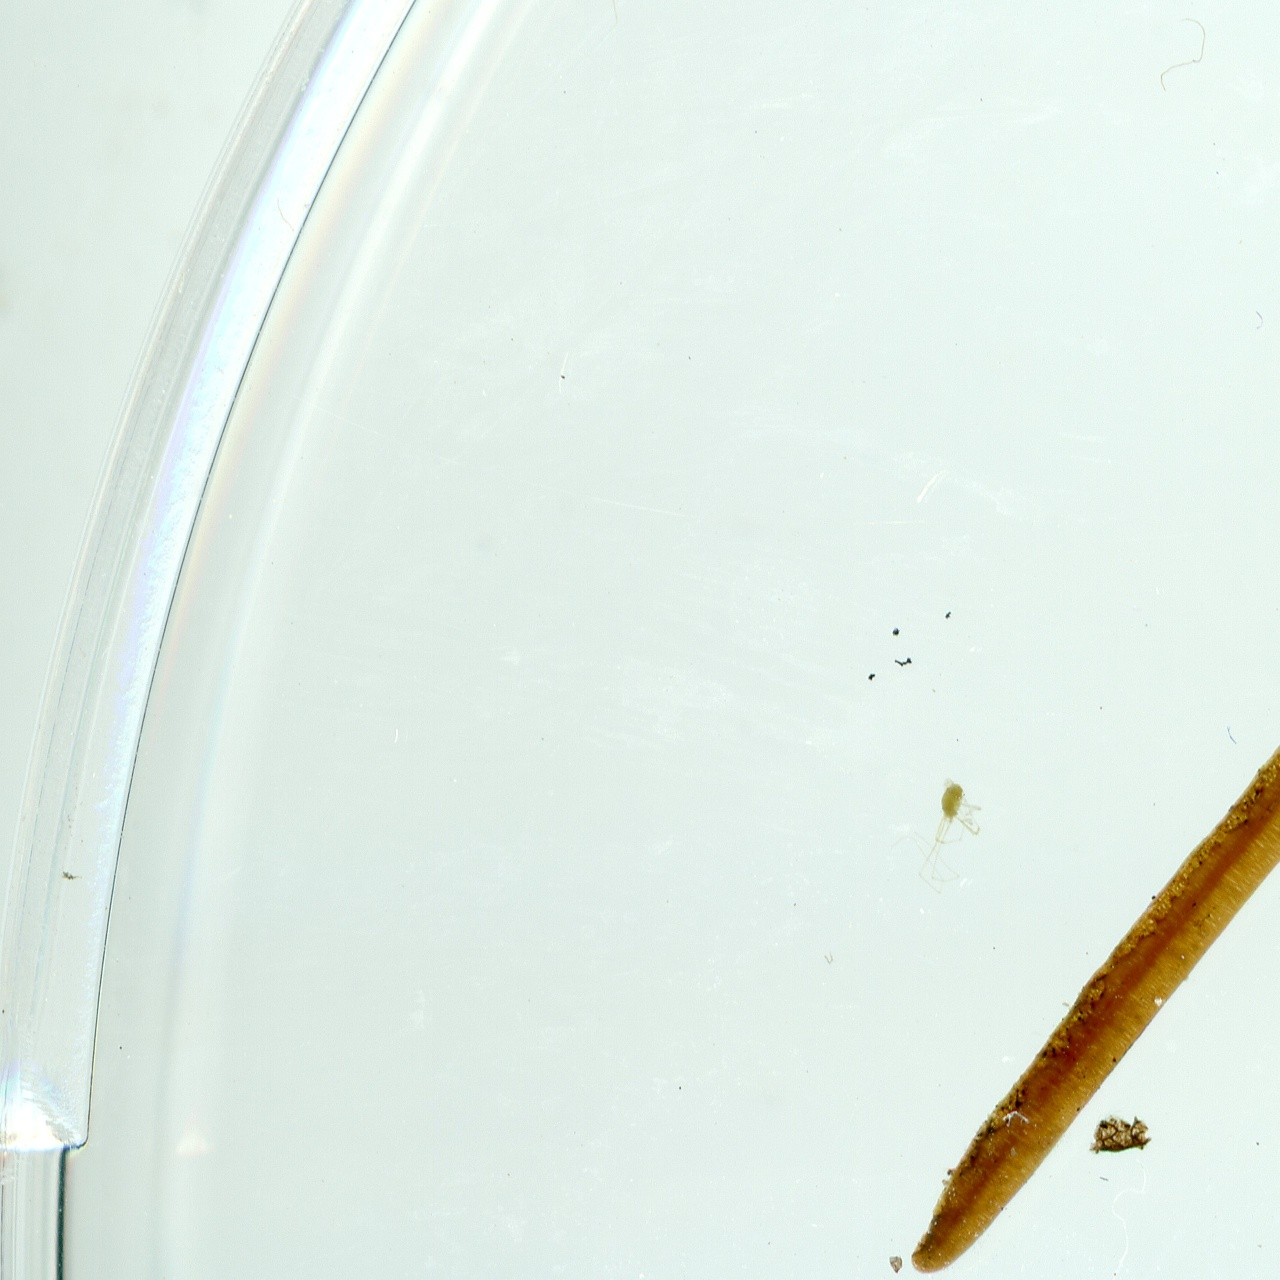arthropod: (875, 762, 999, 908)
